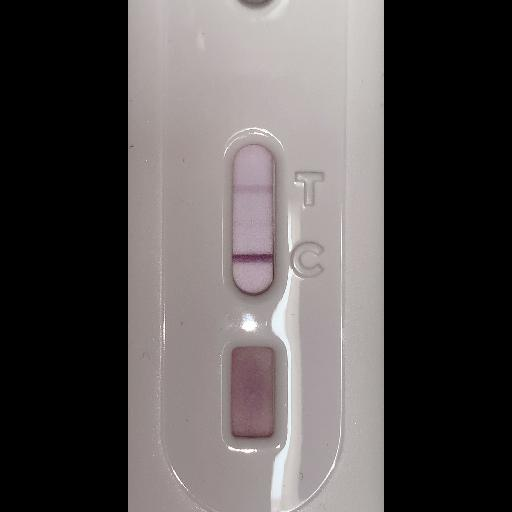Pos: (127, 0, 383, 505)
